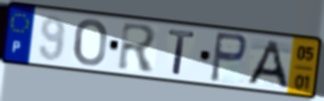9: (38, 14, 69, 63)
A: (244, 39, 290, 91)
O: (73, 18, 109, 68)
P: (208, 30, 249, 85)
R: (116, 21, 159, 74)
T: (166, 28, 198, 77)
